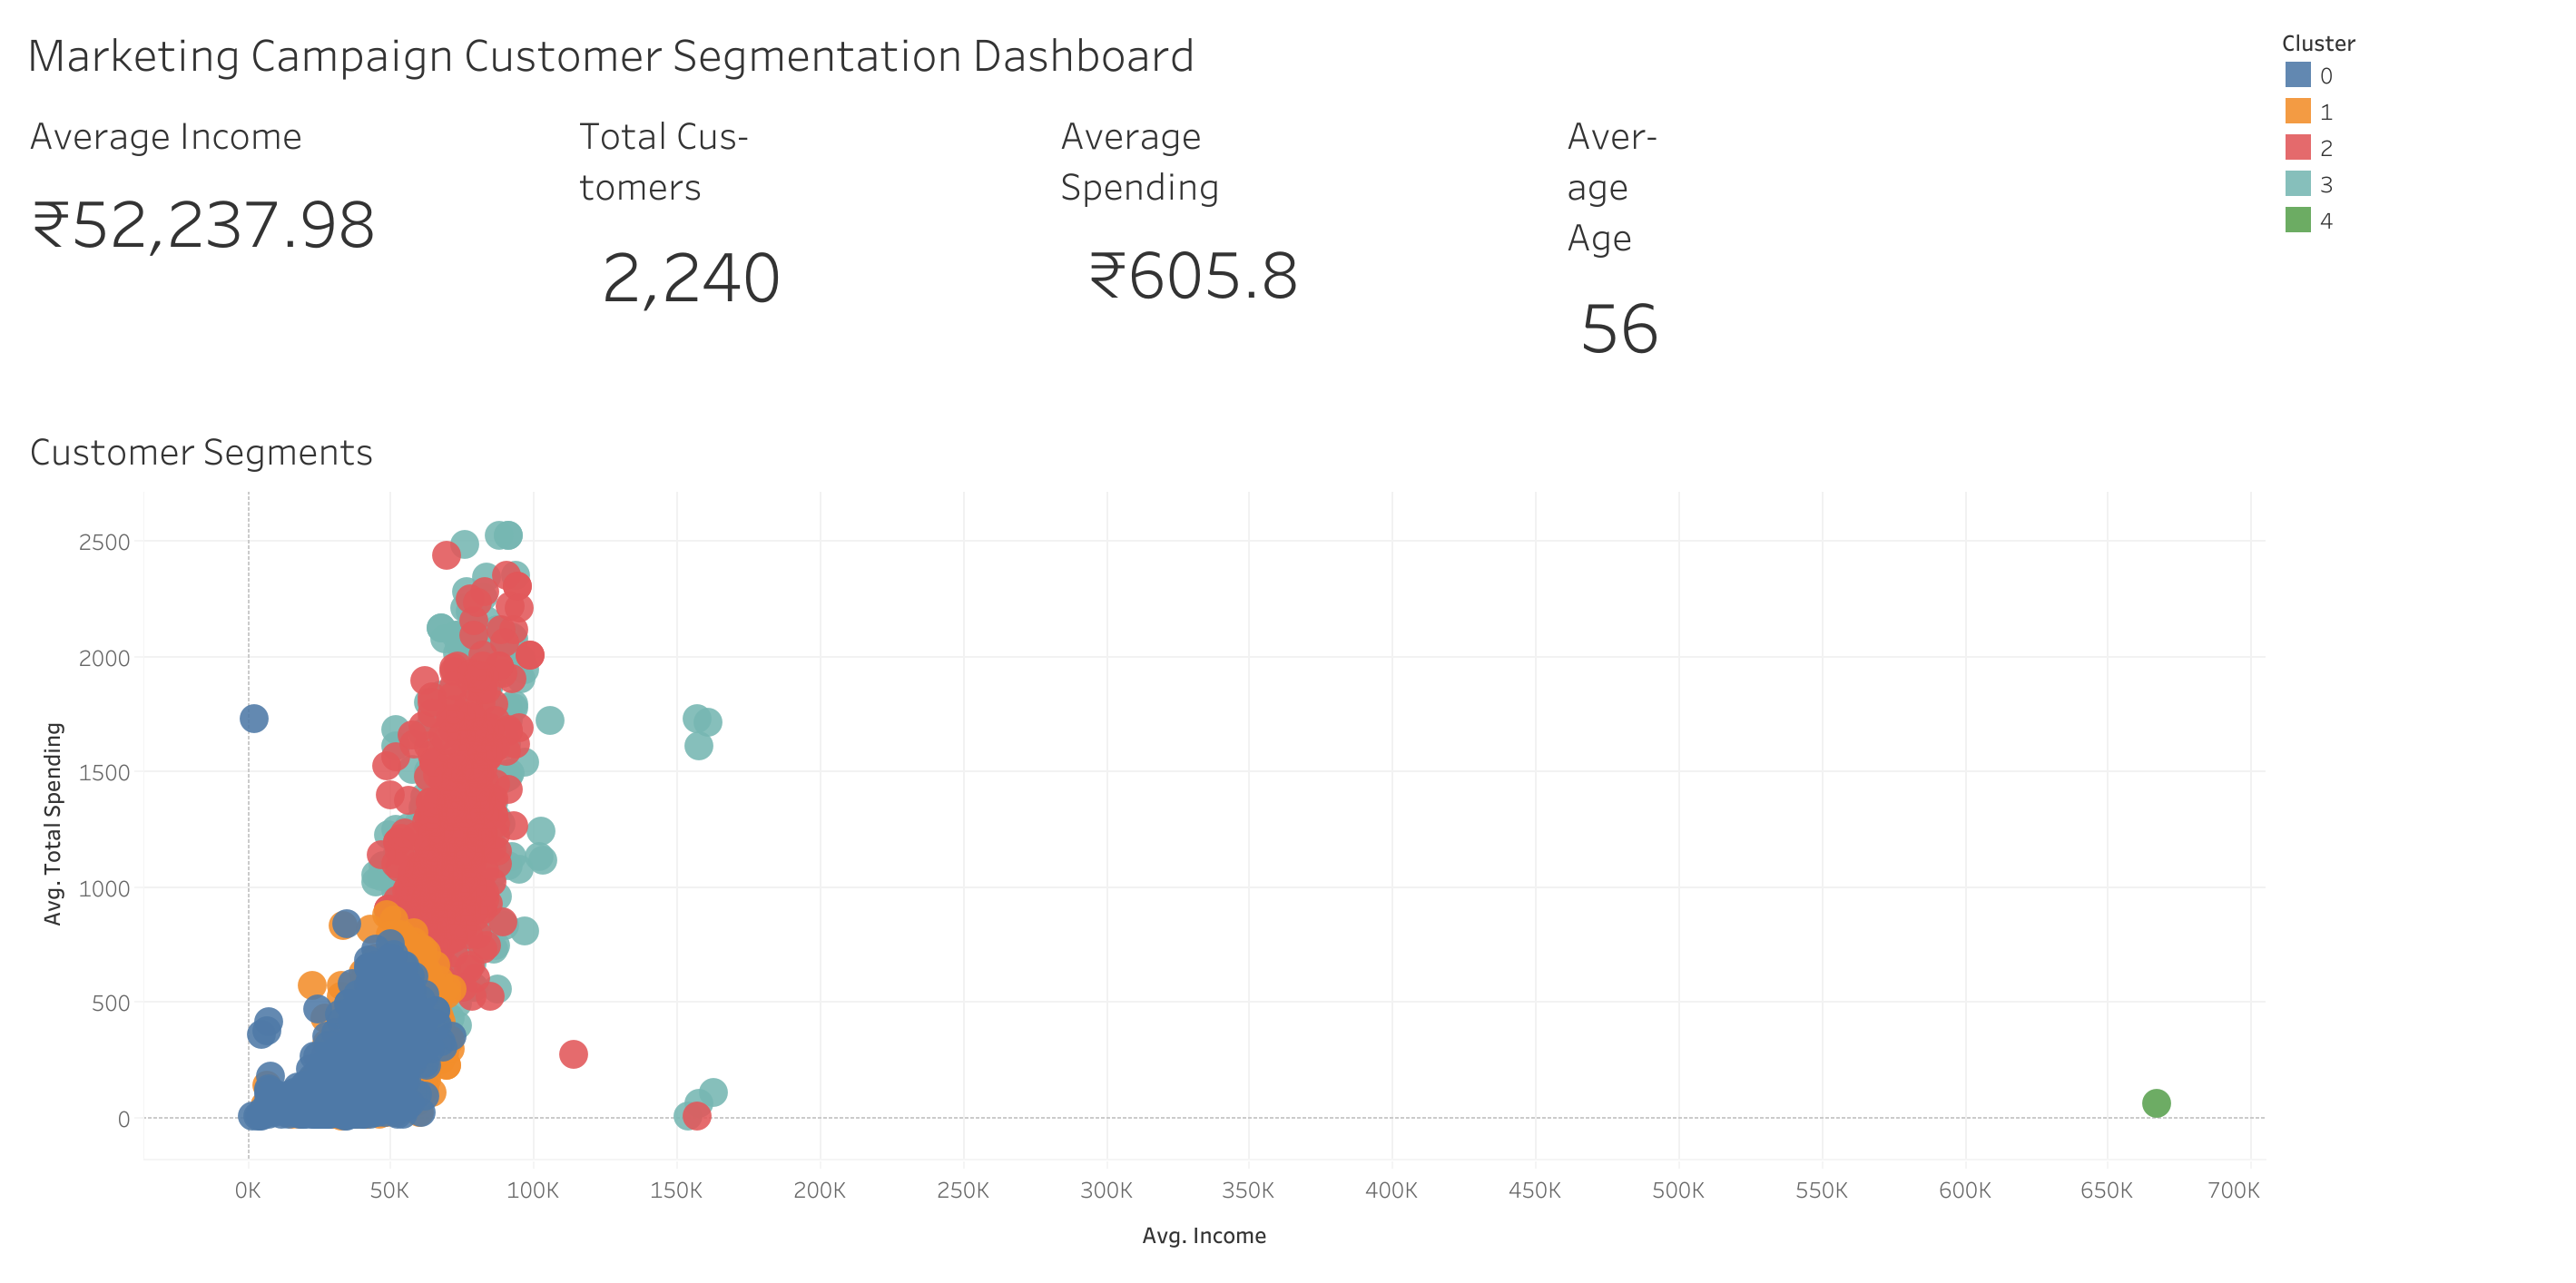

What the dashboard file says about the page in this screenshot:
{"tool":"tableau","page":{"name":"Dashboard 1","canvas":[1000,1000],"units":"permille","ordinal":0},"visuals":[{"type":"title","box":[6.4,9.6,858.8,50.5]},{"type":"legend","title":"Customer Segments","param":"[federated.17iecs20440a2v1gyry0q1k62h1y].[none:Cluster:ok]","box":[865.2,9.6,128.4,151.6]},{"type":"worksheet","title":"Average Income","mark":"Automatic","box":[6.4,60.2,220.7,209.4]},{"type":"worksheet","title":"Total Customers","mark":"Automatic","box":[227.1,60.2,212.7,209.4]},{"type":"worksheet","title":"Average Spending","mark":"Automatic","box":[439.8,60.2,220.7,209.4]},{"type":"worksheet","title":"Average Age","mark":"Automatic","box":[660.5,60.2,204.7,209.4]},{"type":"worksheet","title":"Customer Segments","mark":"Circle","rows":["Total_Spending"],"cols":["Income"],"box":[6.4,269.6,858.8,720.8]}]}

Visuals, with their boxes on the dashboard's canvas, which has no fixed pixel size, in thousandths of its width and height (x1, y1, x2, y2). These are canvas units, not pixel positions in the 2576x1283 screenshot, which may show the page scaled, cropped or inside an application window:
title: 6,10,865,60
"Customer Segments" legend: 865,10,994,161
"Average Income" worksheet: 6,60,227,270
"Total Customers" worksheet: 227,60,440,270
"Average Spending" worksheet: 440,60,660,270
"Average Age" worksheet: 660,60,865,270
"Customer Segments" worksheet (Circle marks): 6,270,865,990
